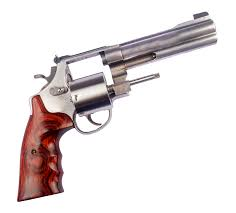gun: (20, 10, 218, 198)
